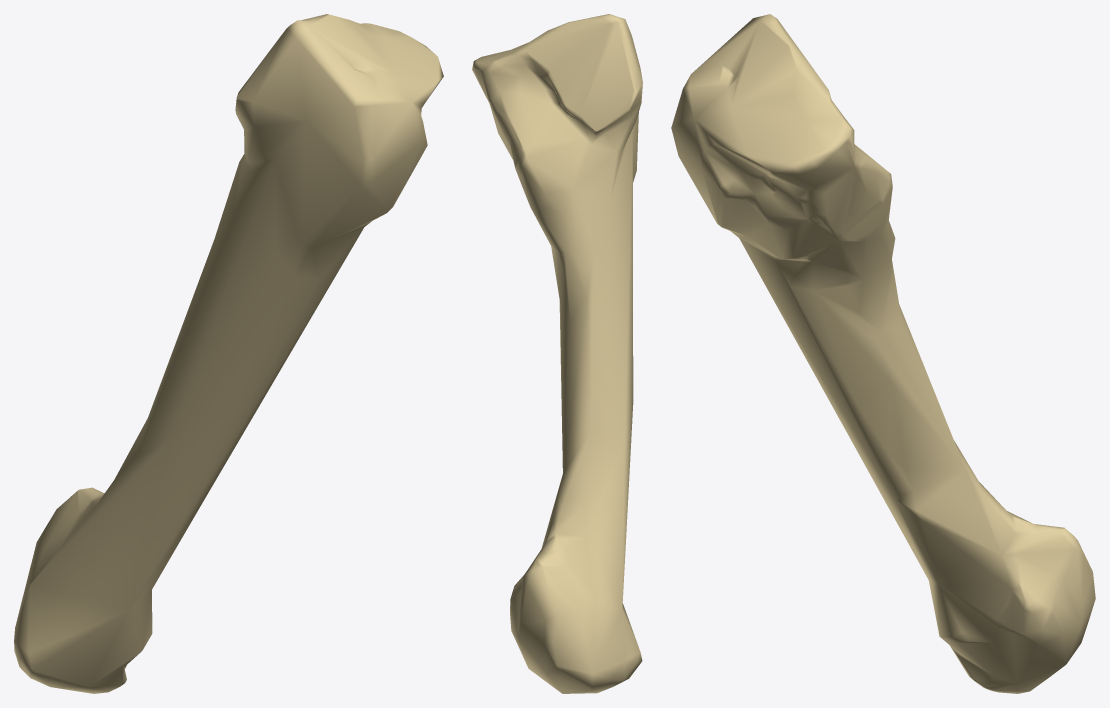
3 renders of one model, left to right at view 1: azimuth 30°, elevation 25°; view 2: azimuth 150°, elevation 25°; view 3: azimuth 270°, elevation 25°, orthographic. The views are drawn at different scales.
Parts seen in each view (by area): view 1: 右侧第四跖骨; view 2: 右侧第四跖骨; view 3: 右侧第四跖骨.
Part boxes in pixels (box(x1,y1,x2,y2)): 右侧第四跖骨: box(14, 14, 443, 693); 右侧第四跖骨: box(472, 14, 642, 693); 右侧第四跖骨: box(671, 14, 1095, 693).
Size of the model in its own units: 0.044 by 0.101 by 0.0545.
